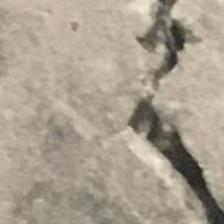Crack: (118, 0, 211, 224)
